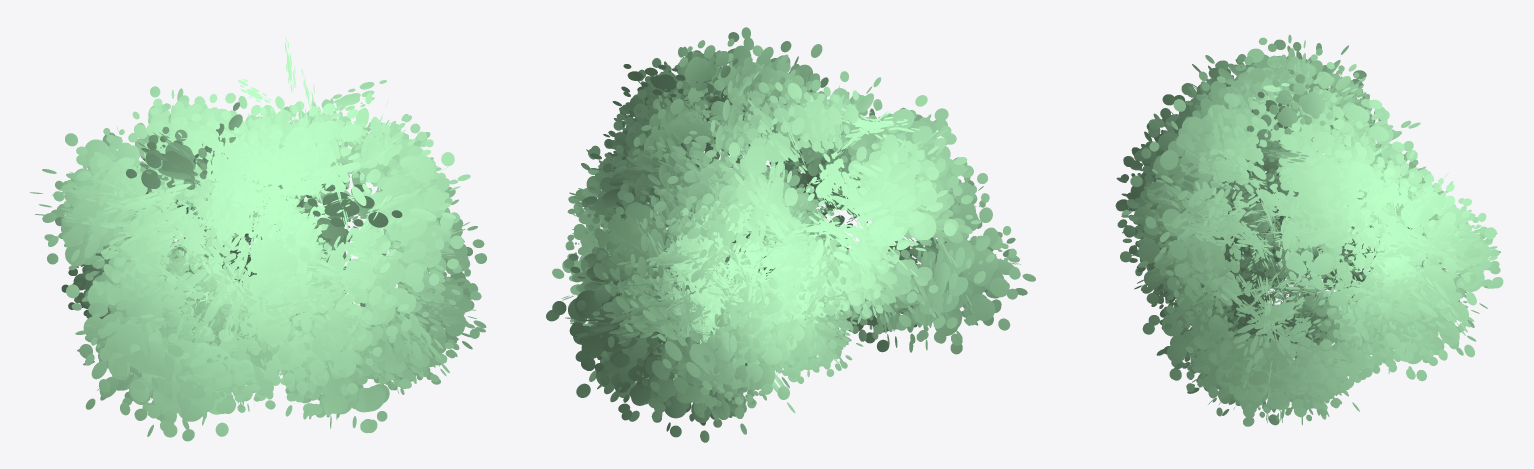
The model's file is Leaves.fbx.
3 renders of one model, left to right at view 1: azimuth 30°, elevation 25°; view 2: azimuth 150°, elevation 25°; view 3: azimuth 270°, elevation 25°, orthographic. The views are drawn at different scales.
Visible parts, largest first — view 1: Plane.006; view 2: Plane.006; view 3: Plane.006.
Boxes of the visible parts, x1,y1,x2,y2 form: Plane.006: (29, 36, 486, 441); Plane.006: (546, 27, 1035, 442); Plane.006: (1115, 34, 1503, 426).
Bounding box in the file's own units: 1229 × 1059 × 1145.
1 material, 1 textured.
